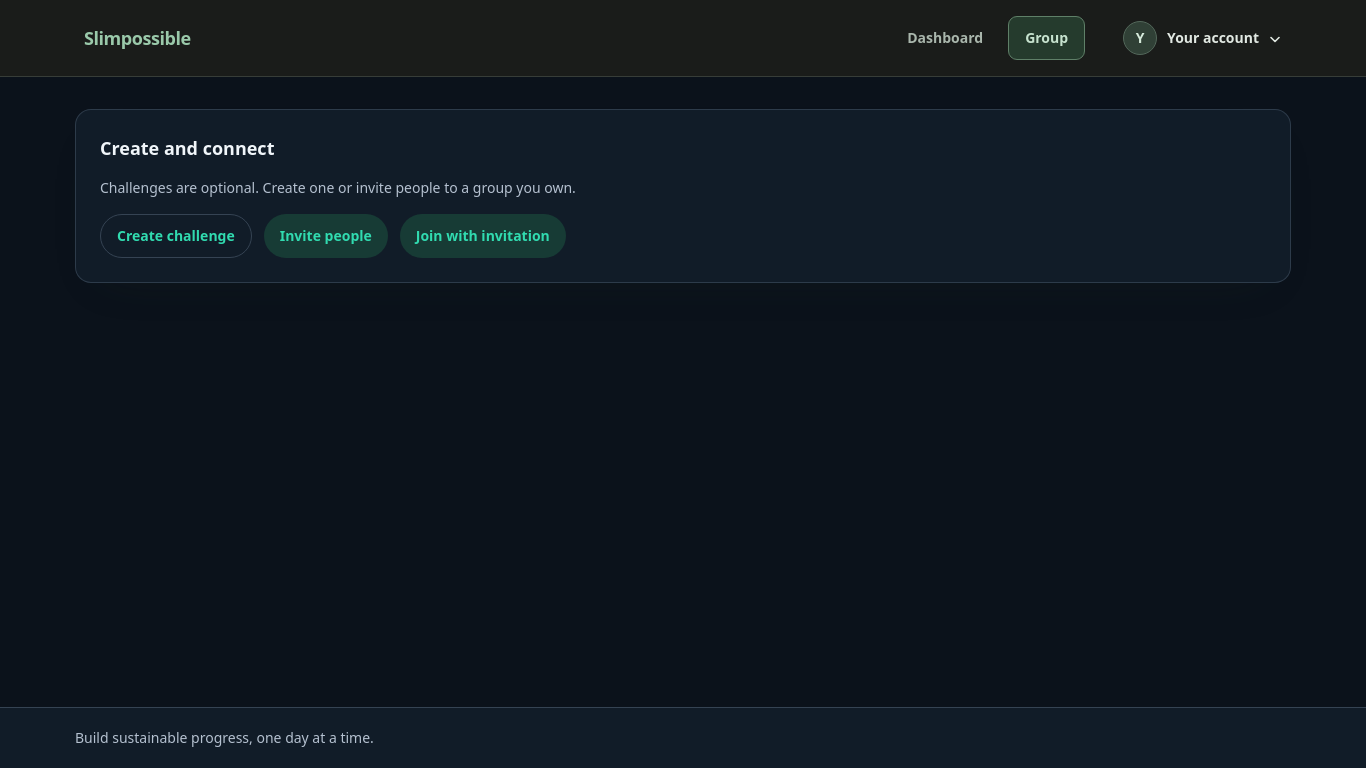
Test: guards a Group join draft across navigation with Stay and explicit Discard
Click the button "Join with invitation": (483, 236) x1=400 y1=214 x2=566 y2=258
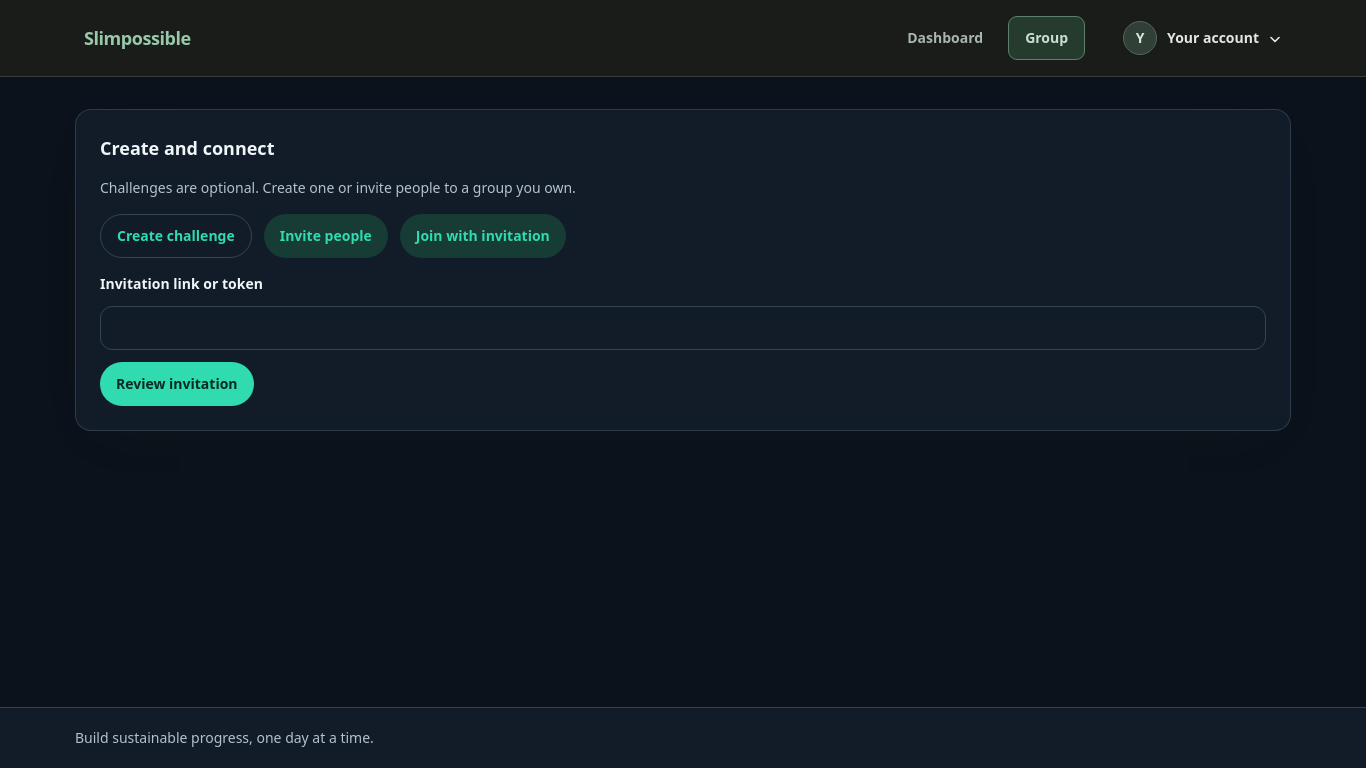
In the field labelled "Invitation link or token": (683, 328) x1=100 y1=306 x2=1266 y2=350, type "saved-draft"
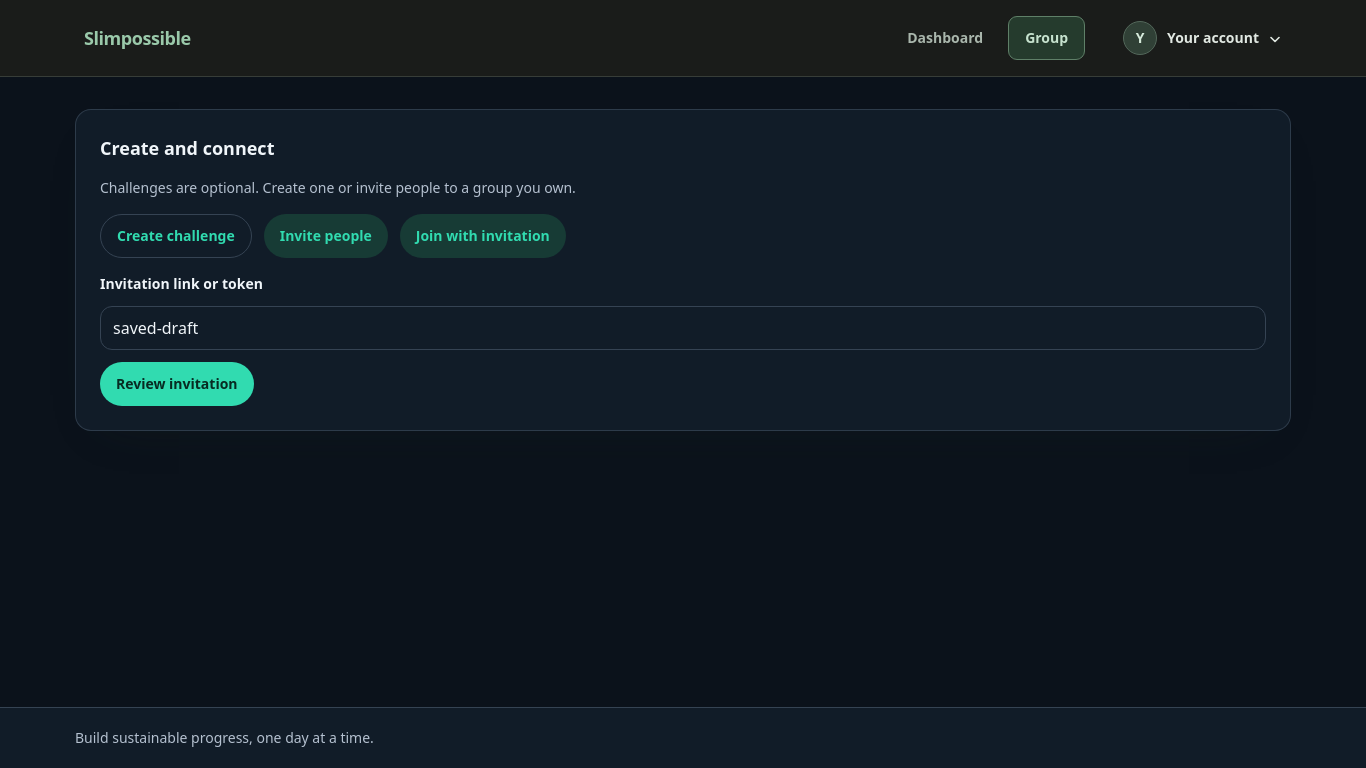
Click the link "Create challenge": (176, 236) x1=100 y1=214 x2=252 y2=258
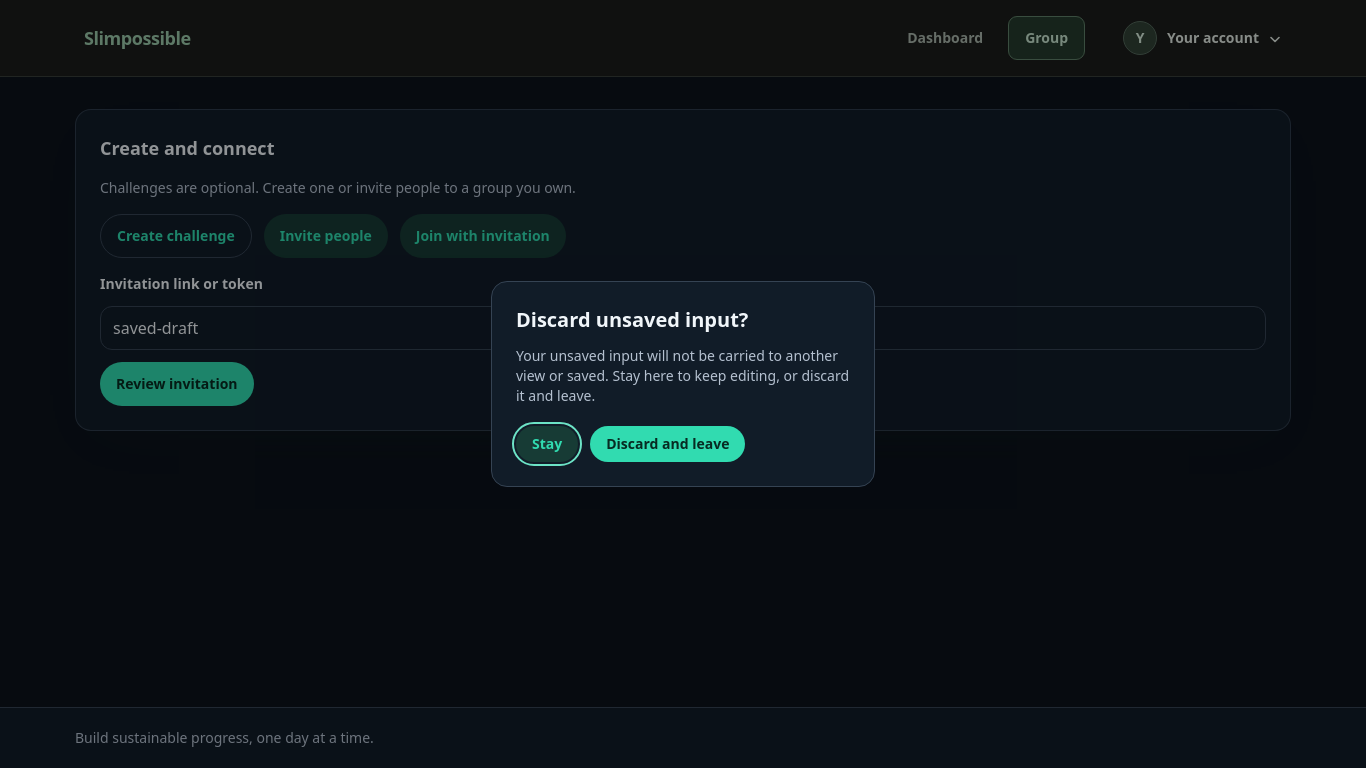
Check: the dialog "Discard unsaved input?" is shown, box x1=491 y1=281 x2=875 y2=487
Click the button "Stay": (547, 444) x1=516 y1=426 x2=578 y2=462
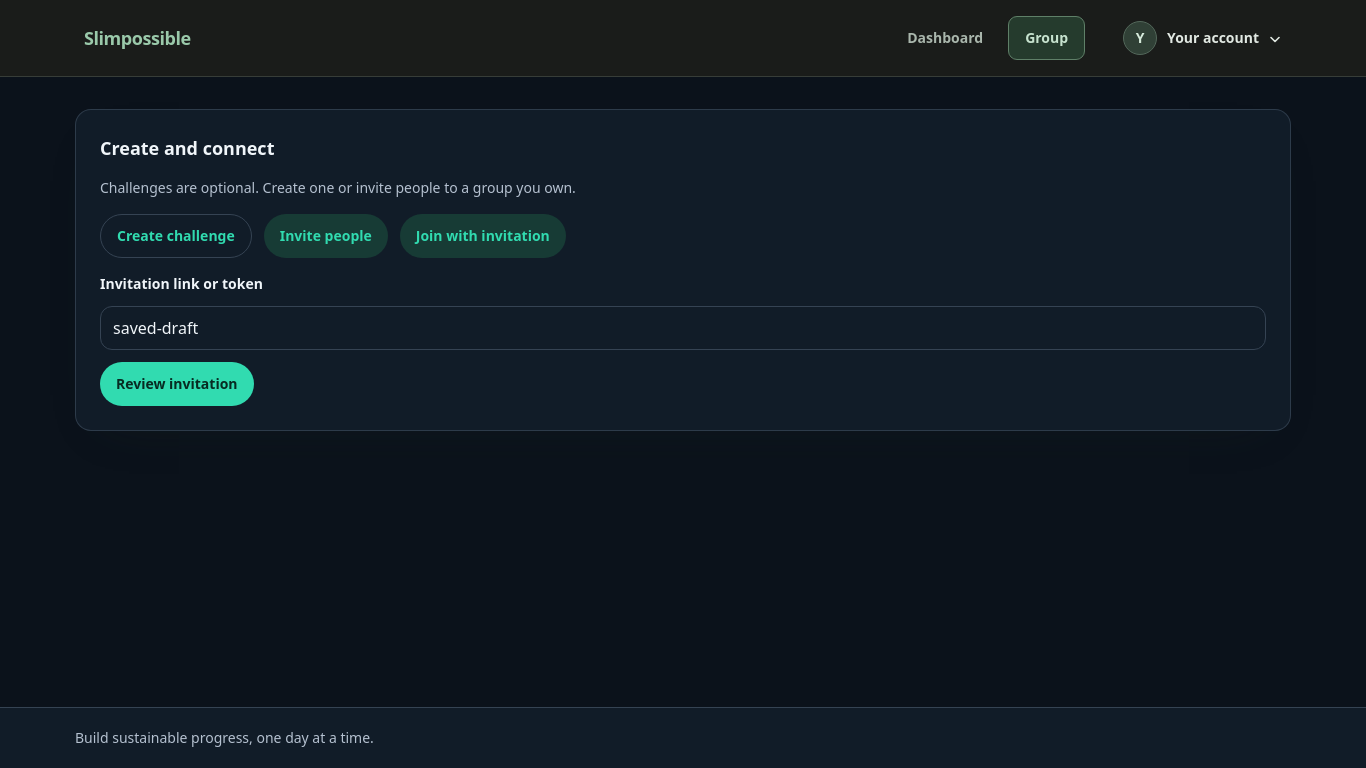
Click the link "Create challenge": (176, 236) x1=100 y1=214 x2=252 y2=258
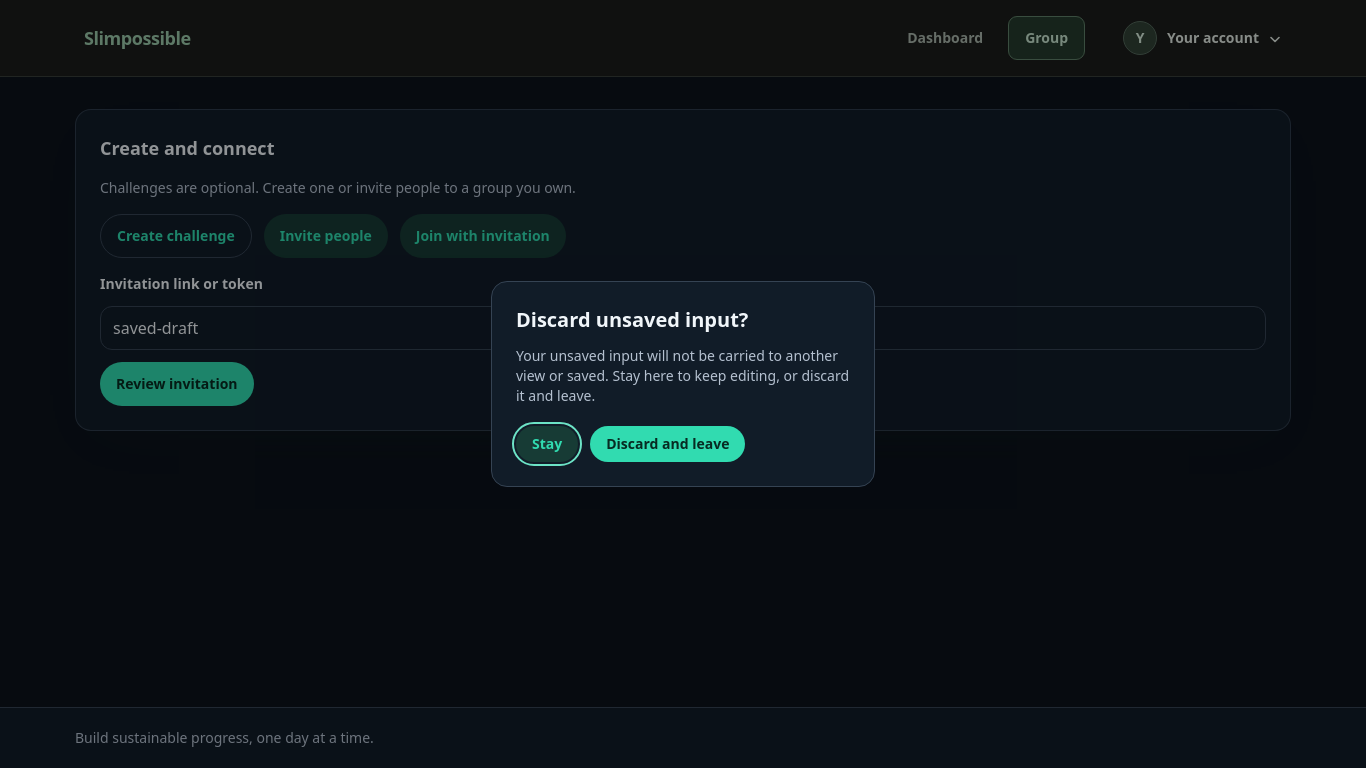
Click the button "Discard and leave": (668, 444) x1=590 y1=426 x2=745 y2=462
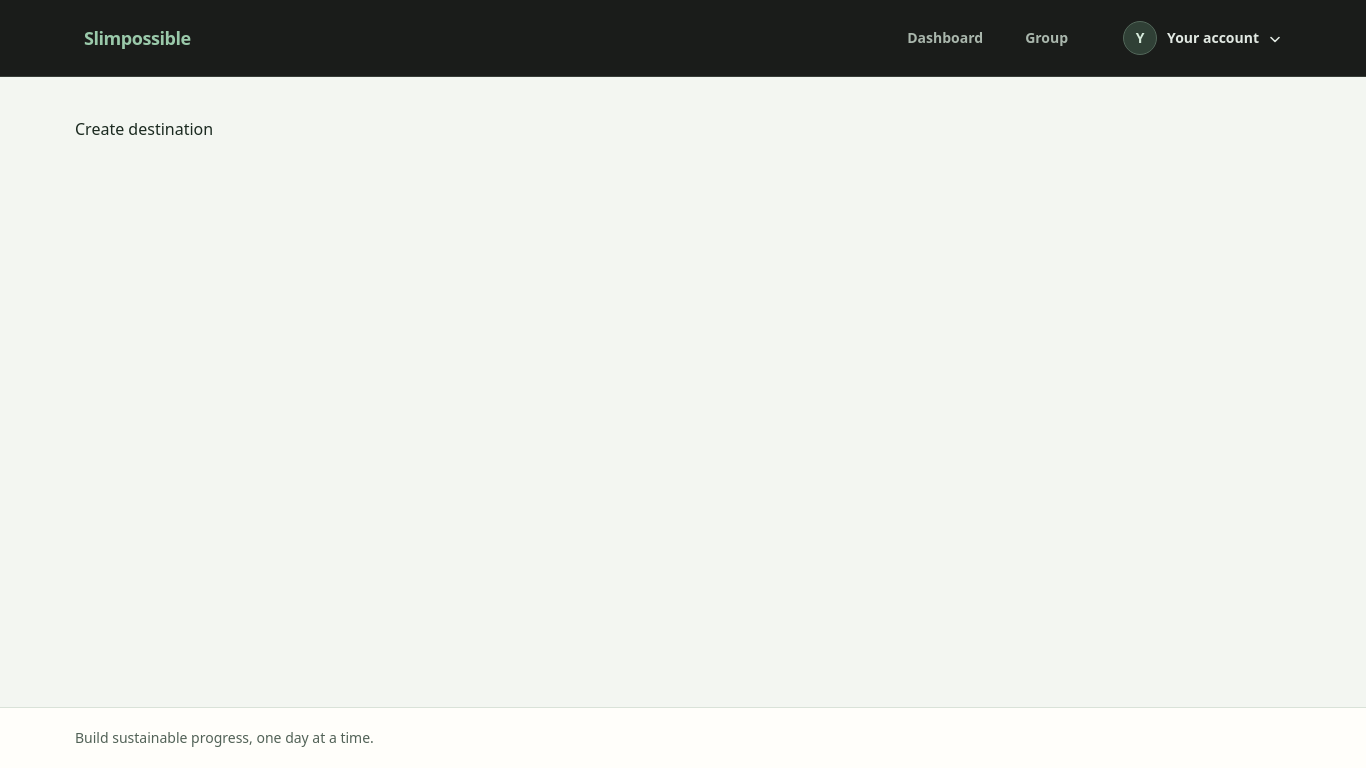
Check: the heading "Create destination" is shown, box x1=75 y1=118 x2=213 y2=140
